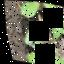Purslane: (7, 0, 64, 64)
